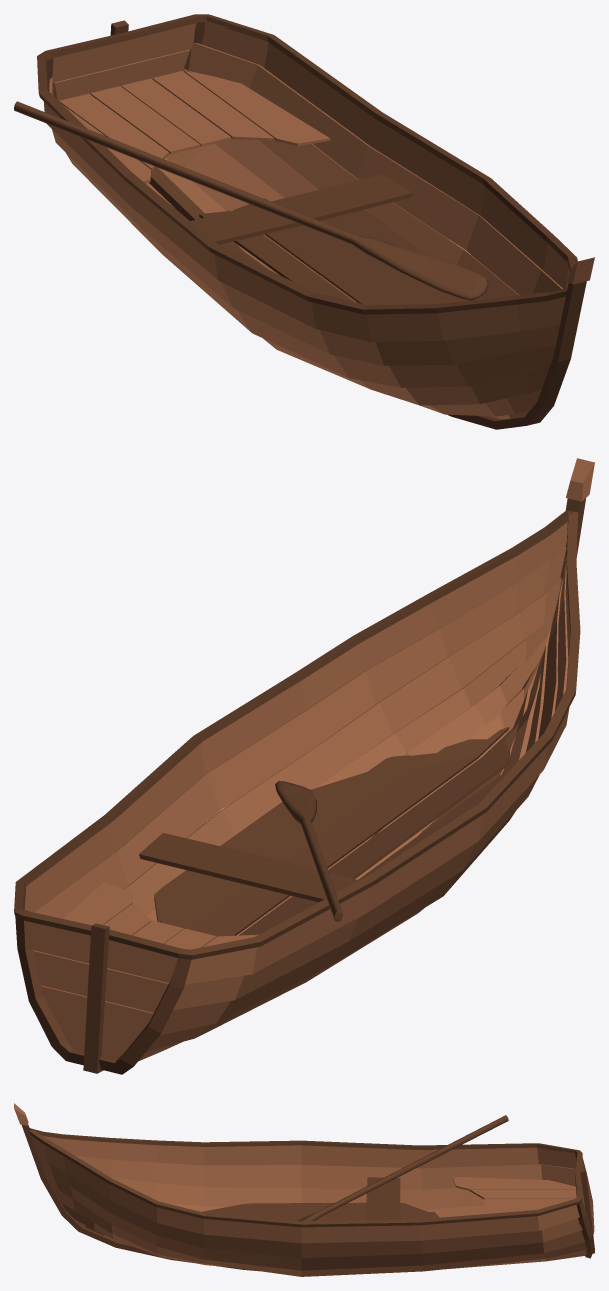
Rendered from Boat.fbx.
The picture shows the model from 3 angles, top to bottom: view 1: azimuth 30°, elevation 25°; view 2: azimuth 150°, elevation 25°; view 3: azimuth 270°, elevation 25°; orthographic projection. The views are drawn at different scales.
Parts seen in each view (by area): view 1: Cube.067, Cube.071; view 2: Cube.067, Cube.071; view 3: Cube.067, Cube.071.
Part boxes in pixels (x1=…): Cube.067: x1=37, y1=14, x2=594, y2=429; Cube.071: x1=14, y1=101, x2=488, y2=300; Cube.067: x1=14, y1=458, x2=594, y2=1074; Cube.071: x1=275, y1=781, x2=342, y2=921; Cube.067: x1=14, y1=1103, x2=594, y2=1276; Cube.071: x1=298, y1=1115, x2=508, y2=1221.
Size of the model in its own units: 1390 by 1174 by 3694.
